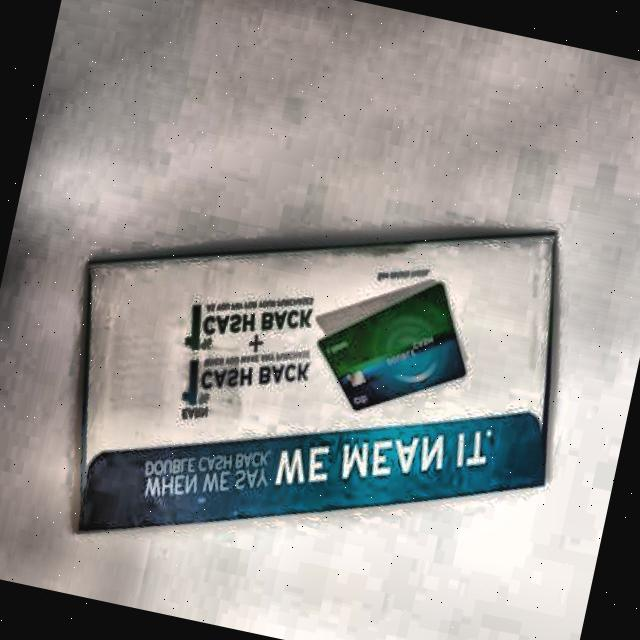paper: (34, 138, 589, 628)
